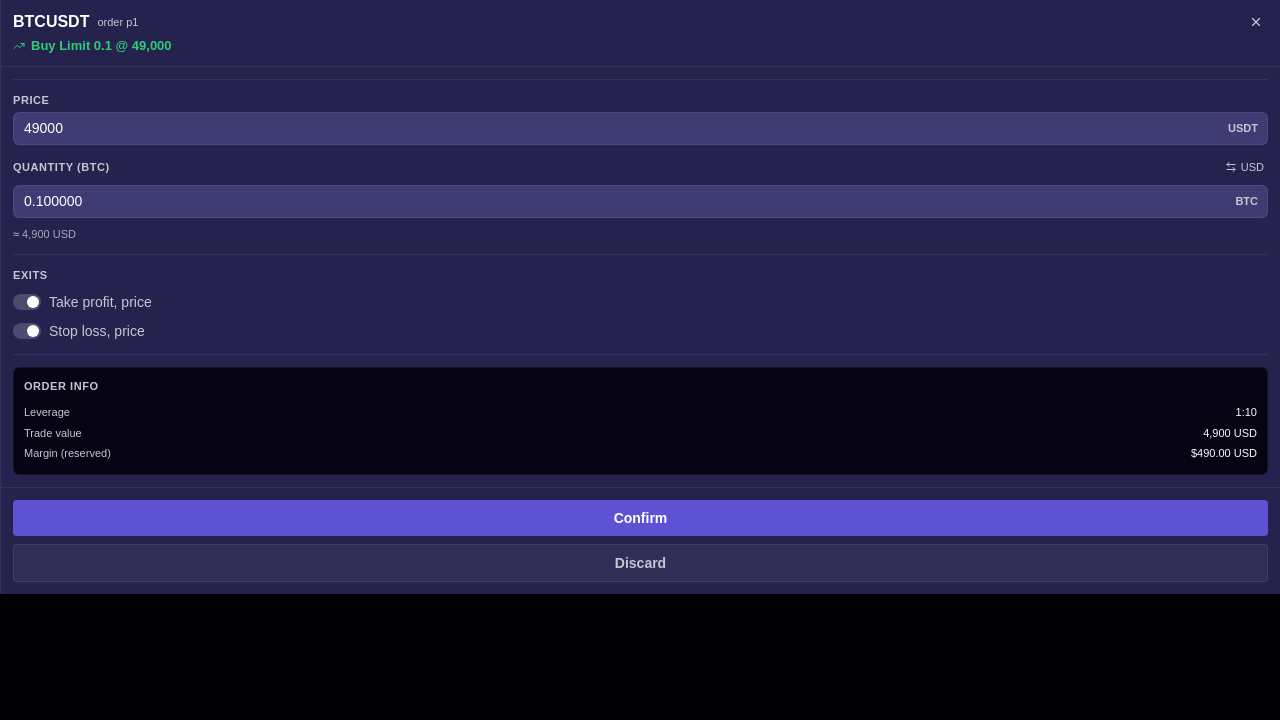
it: PendingOrderEditPanel › a perpetual buy is limited by USDT: IM + both taker fee estimates (orderPreview)
Replace the text in the number field showing "0.100000" with "1". click: (640, 202)
box: 13,185 -> 1268,218
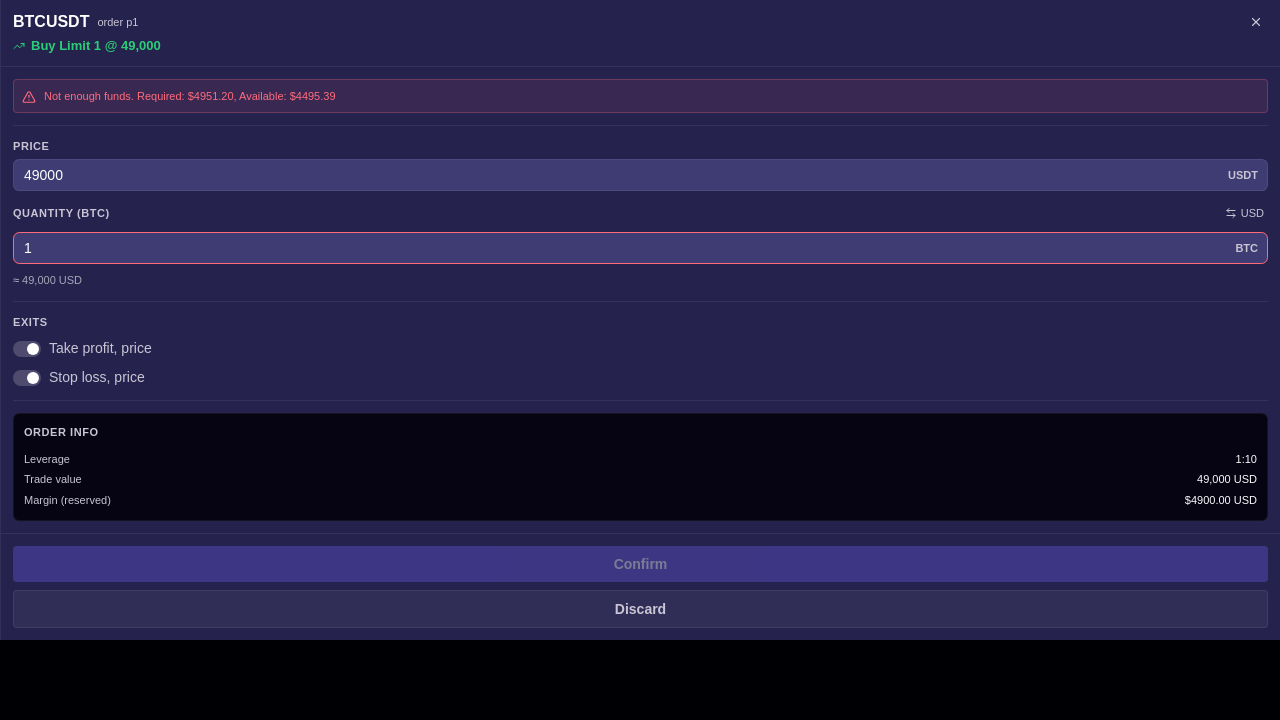
Expected: the text "Not enough funds. Required: $4951.20, Available: $4495.39" is shown, 44,88 -> 336,104
